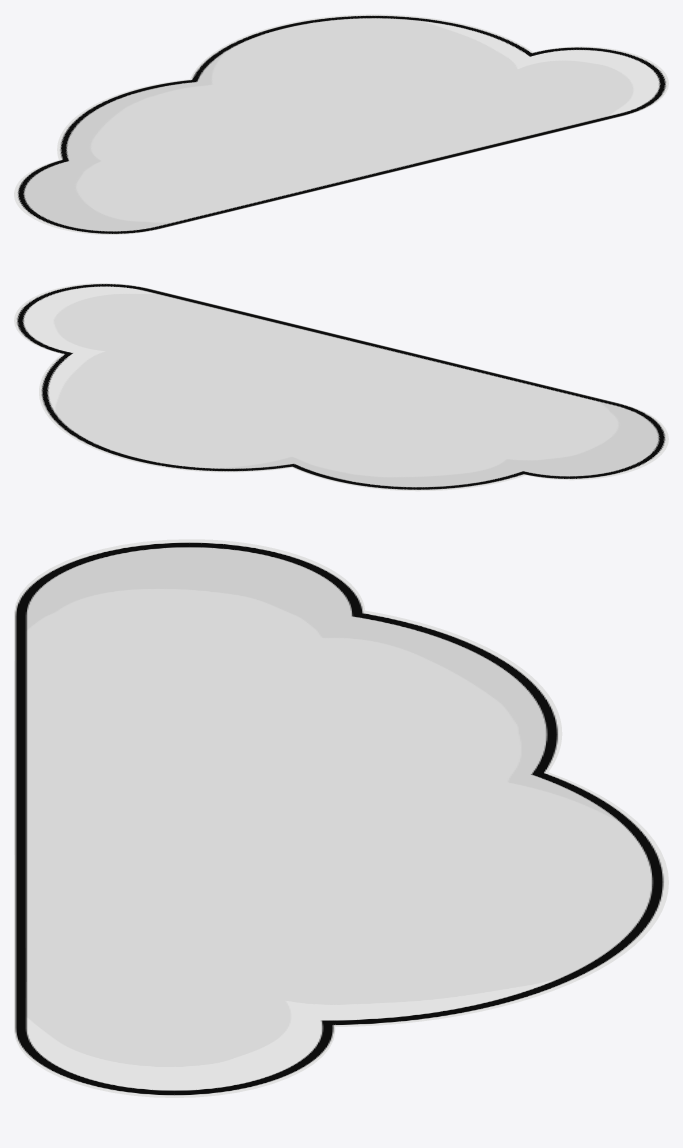
File: wolk-3.dae
3 renders of one model, top to bottom at view 1: azimuth 30°, elevation 25°; view 2: azimuth 150°, elevation 25°; view 3: azimuth 270°, elevation 25°, orthographic. The views are drawn at different scales.
Visible parts, largest first — view 1: Curve_001; view 2: Curve_001; view 3: Curve_001.
Part boxes in pixels (x1,y1,x2,y2): Curve_001: (14,14,668,234); Curve_001: (14,283,668,491); Curve_001: (14,539,668,1097).
Bounding box in the file's own units: 0.3356 × 0.1662 × 0.01.
1 material, 1 textured.
